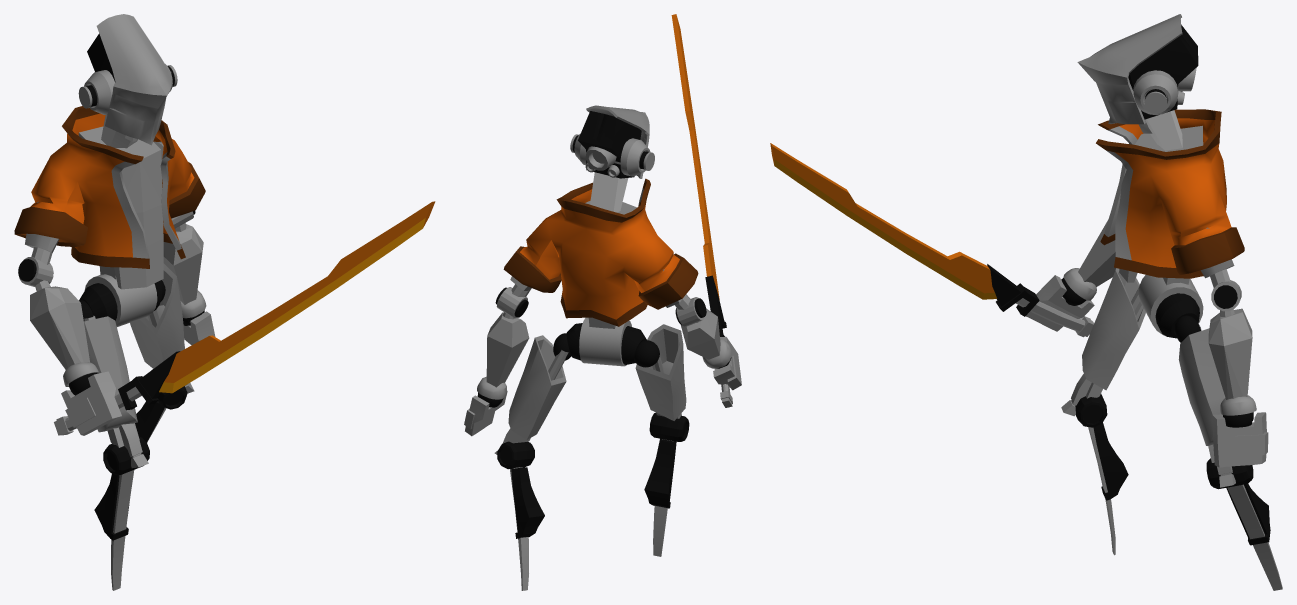
Rendered from Character.obj.
The picture shows the model from 3 angles, left to right: view 1: azimuth 30°, elevation 25°; view 2: azimuth 150°, elevation 25°; view 3: azimuth 270°, elevation 25°; orthographic projection. The views are drawn at different scales.
Parts seen in each view (by area): view 1: Character; view 2: Character; view 3: Character.
Part boxes in pixels (left/top/right/bottom): Character: left=14, top=14, right=435, bottom=590; Character: left=464, top=14, right=741, bottom=590; Character: left=770, top=14, right=1282, bottom=590.
Size of the model in its own units: 0.6109 by 1.37 by 1.16.
